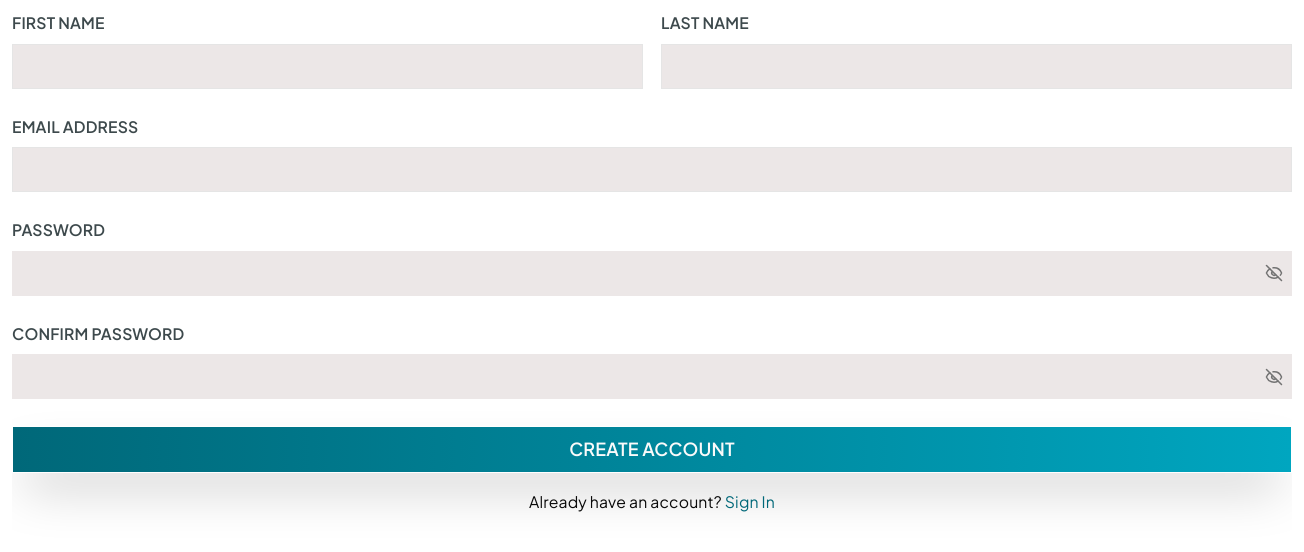
Test: SignUpForm › shows a field error when the email is already taken
Type "John" into the field labelled "First Name" at (328, 66), box [12, 44, 643, 88]
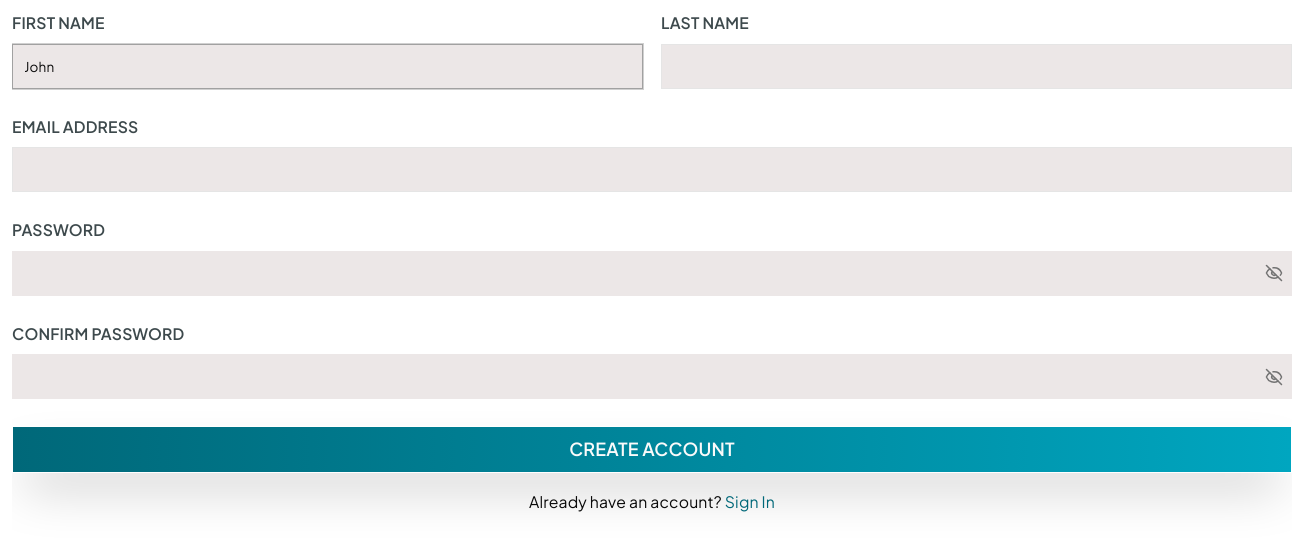
Type "Doe" into the field labelled "Last Name" at (976, 66), box [661, 44, 1292, 88]
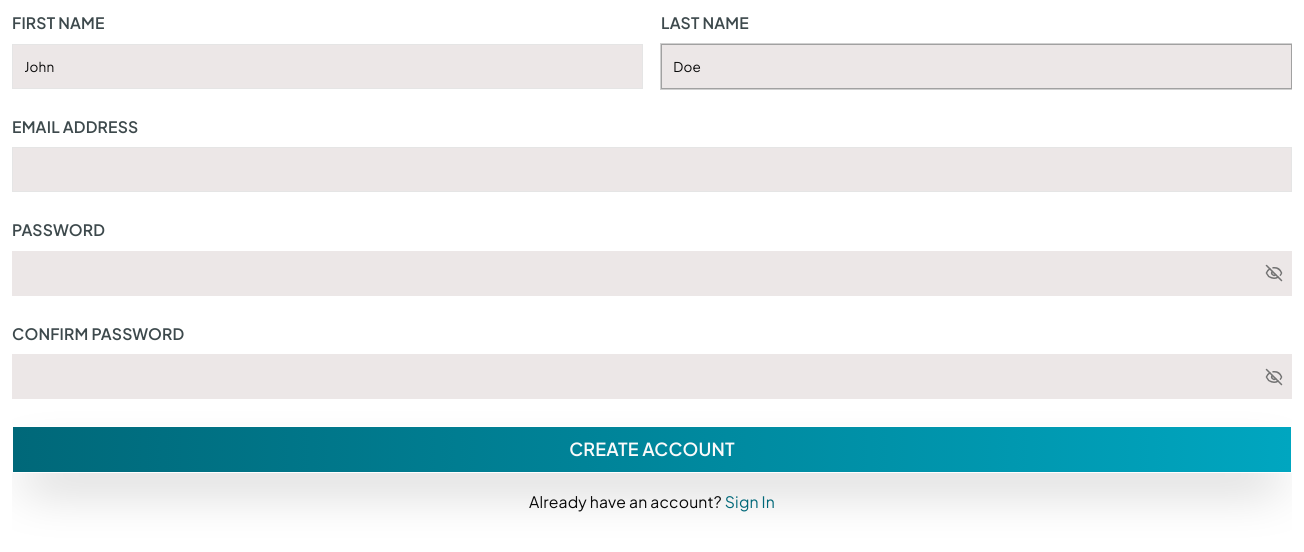
Type "johndoe@gmail.com" into the field labelled "Email Address" at (652, 170), box [12, 147, 1292, 192]
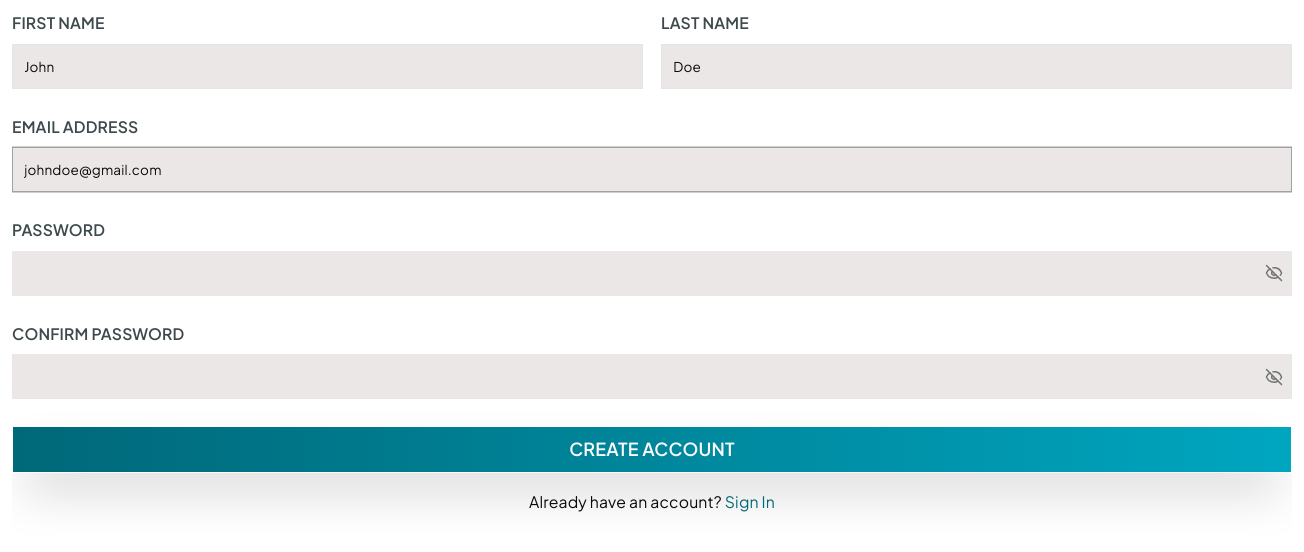
Type "Password@123" into the password field labelled "Password" at (638, 273), box [12, 250, 1265, 296]
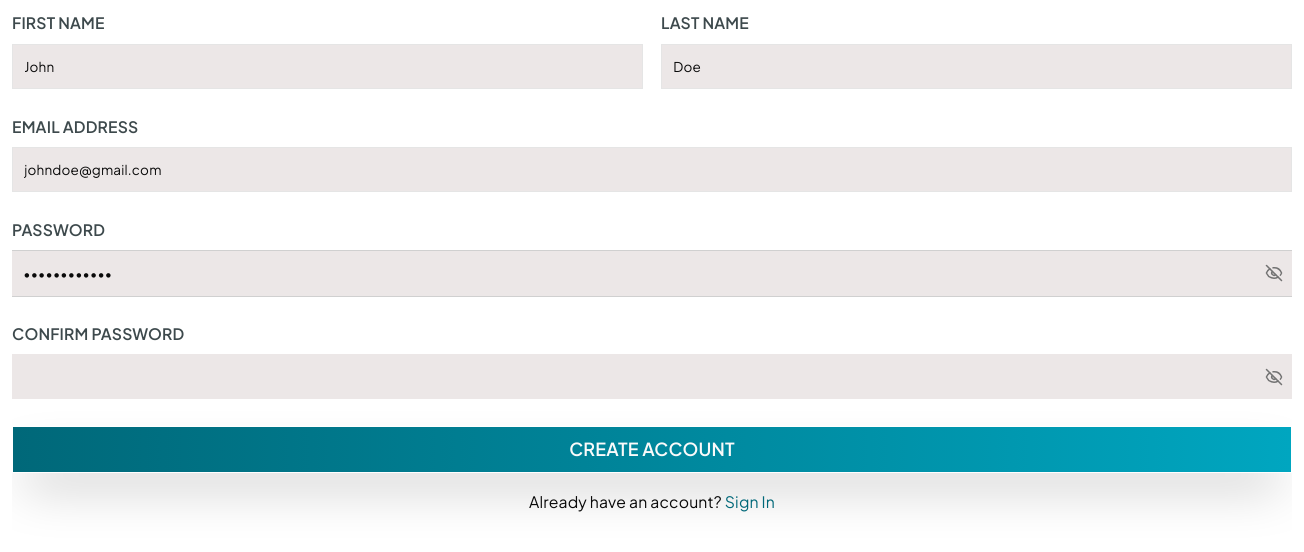
Type "Password@123" into the password field labelled "Confirm Password" at (638, 376), box [12, 354, 1265, 399]
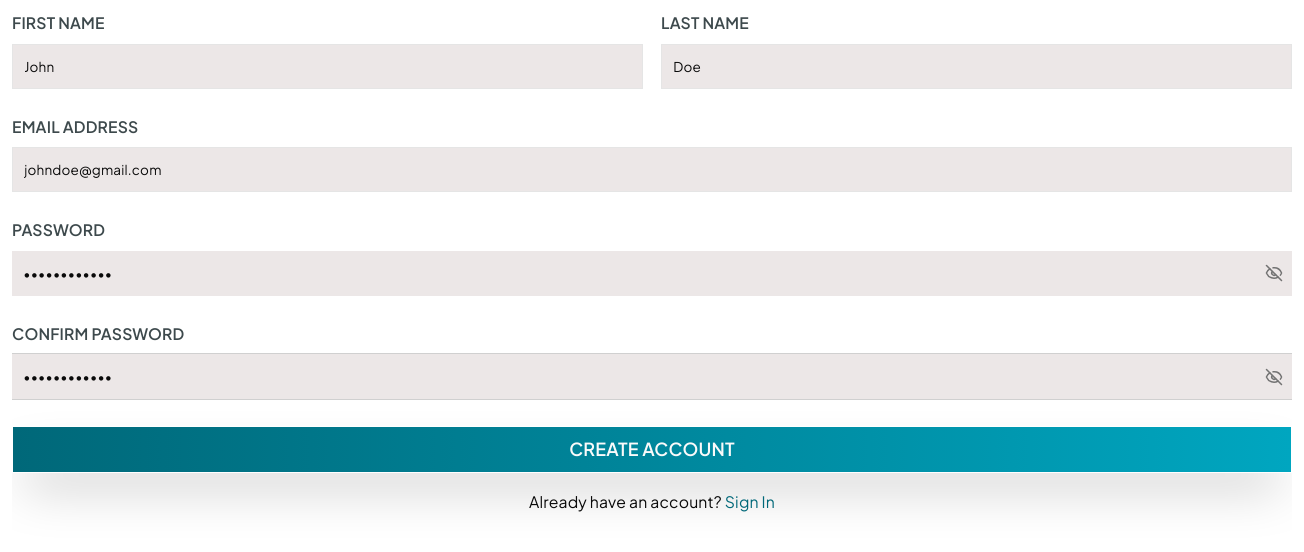
Click the button "Create Account" at (652, 450), box [12, 426, 1292, 473]
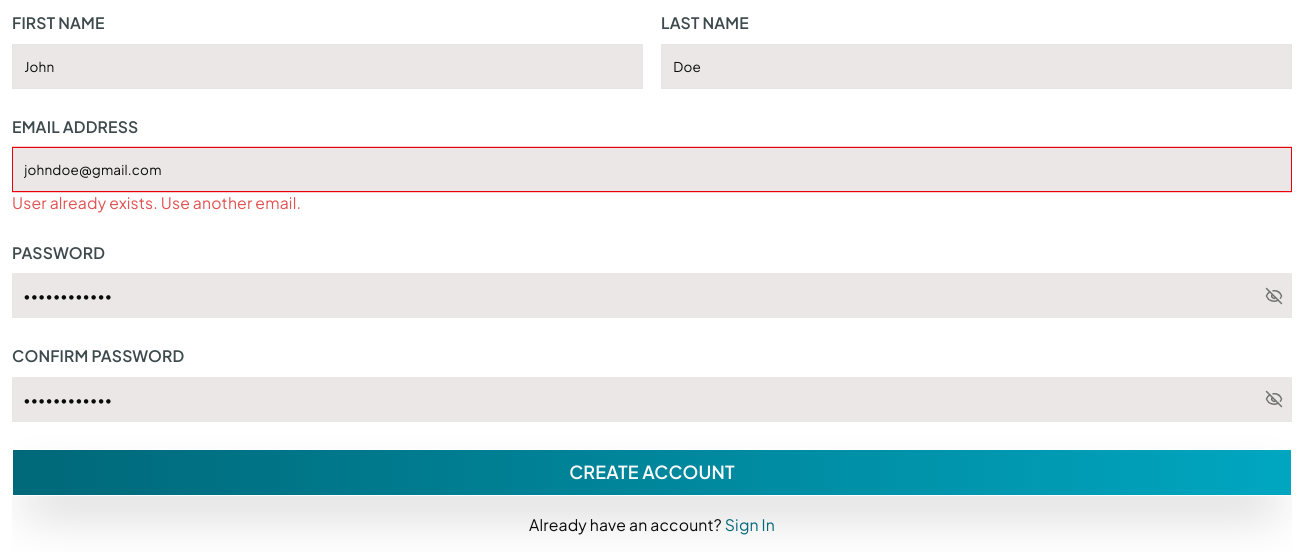
Expected: the text "User already exists. Use another email." is shown, [12, 193, 301, 212]
